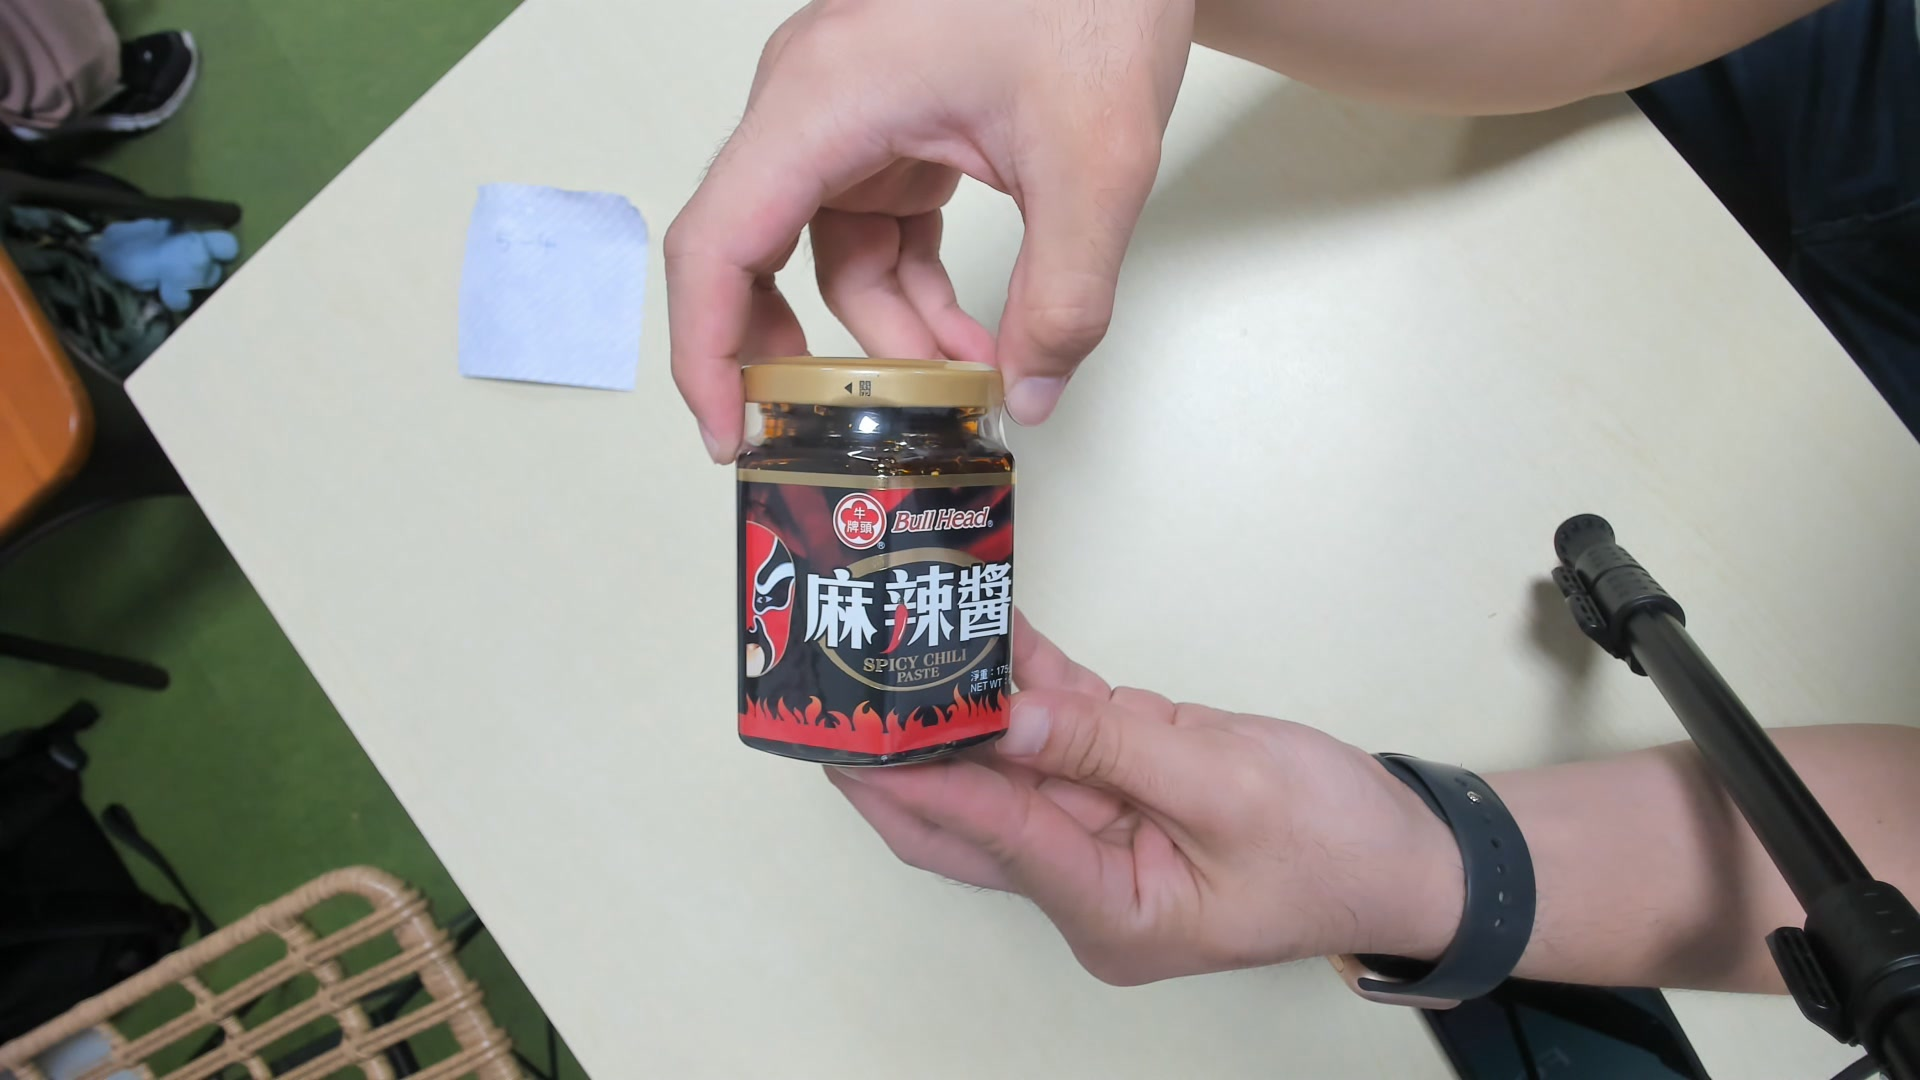OtherSauceDressing_100-199g_NonHalal_NonHealthy: (731, 355, 1015, 771)
